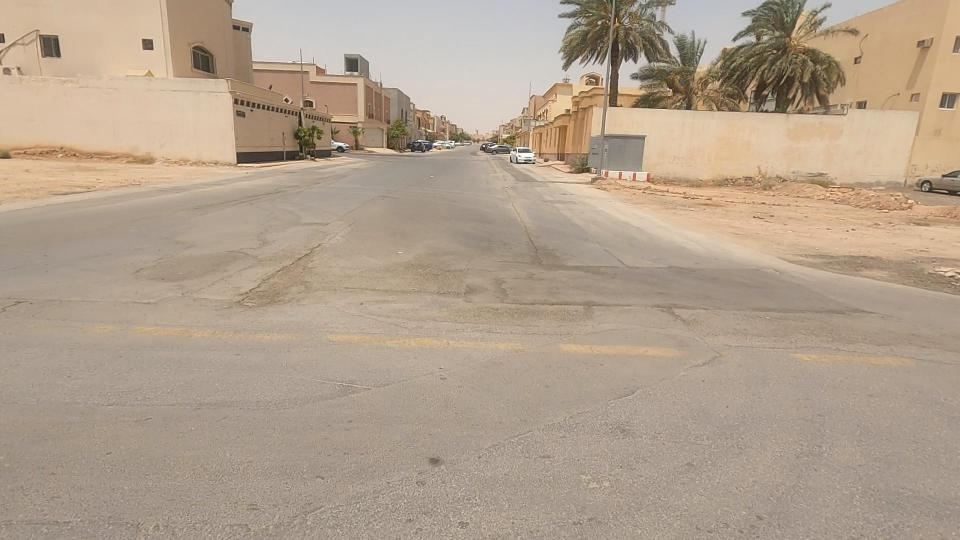POTHOLES: (165, 215, 371, 361), (400, 234, 566, 354)
